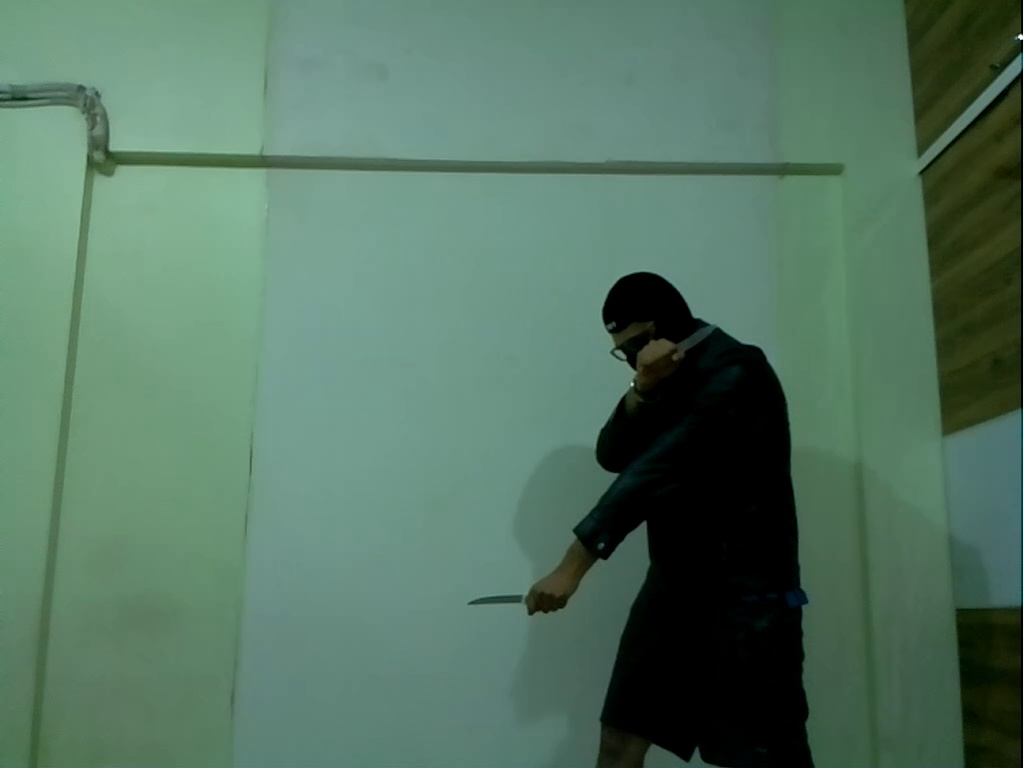knife: (462, 584, 546, 615), (672, 320, 727, 357)
